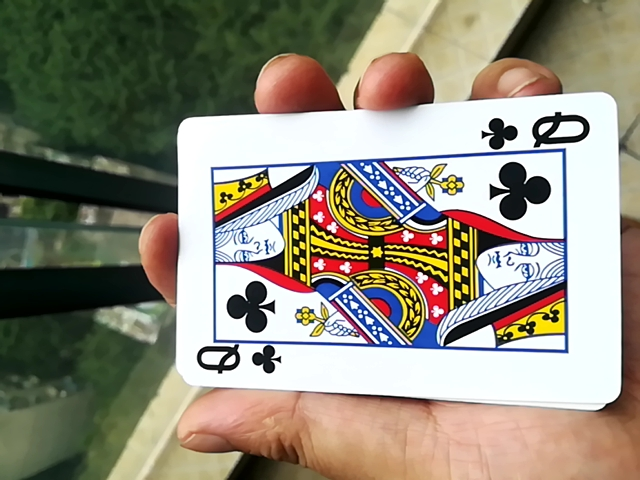mh q: (156, 98, 619, 412)
